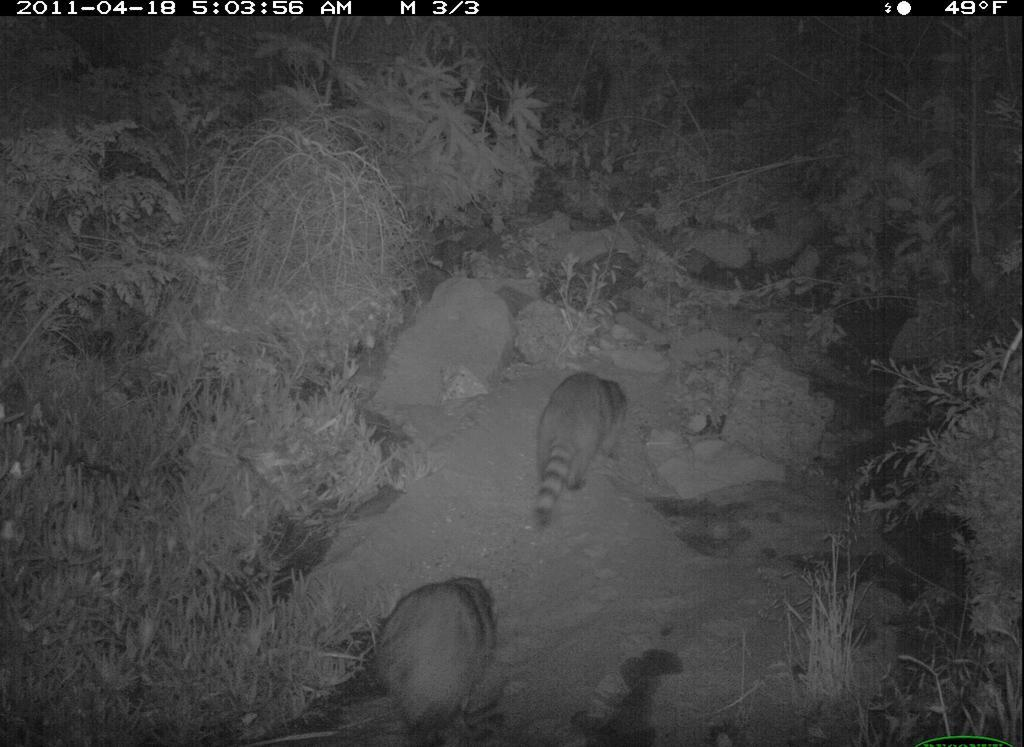raccoon: (364, 562, 510, 745), (521, 363, 648, 534)
